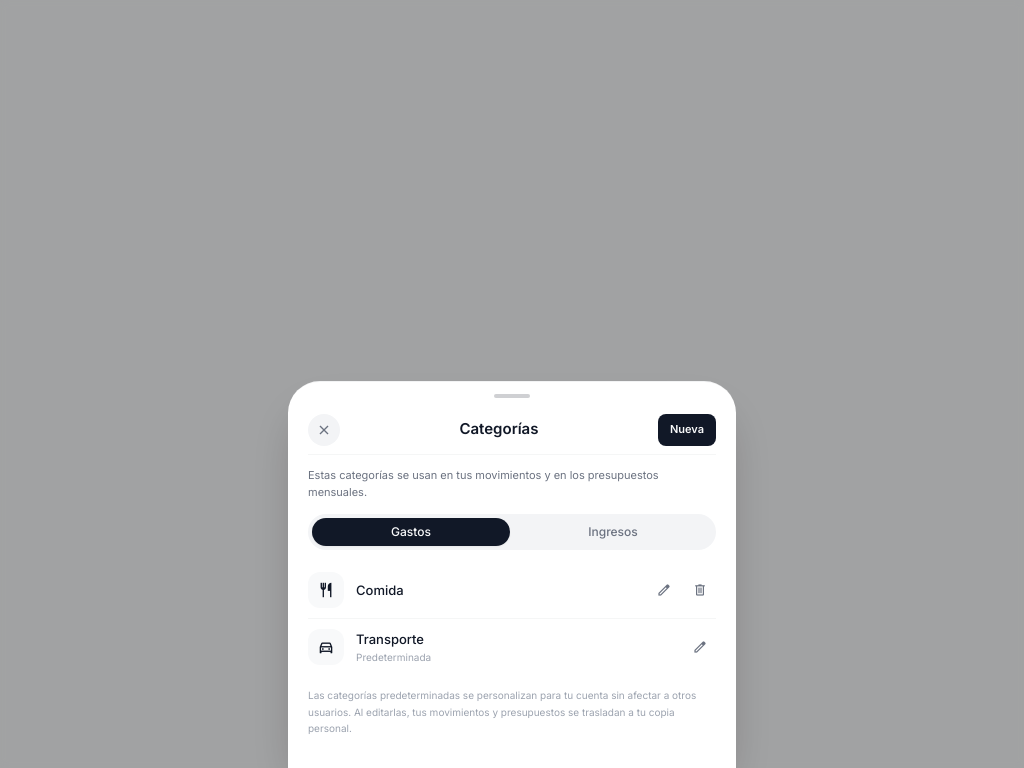
Test case: CategoriesManager › abre el modal de edición con los datos de la categoría
Expected: the text "Comida" is shown, [356, 582, 404, 598]
Step 1. Click the button named "Editar Comida" → (664, 590), box [648, 574, 680, 606]
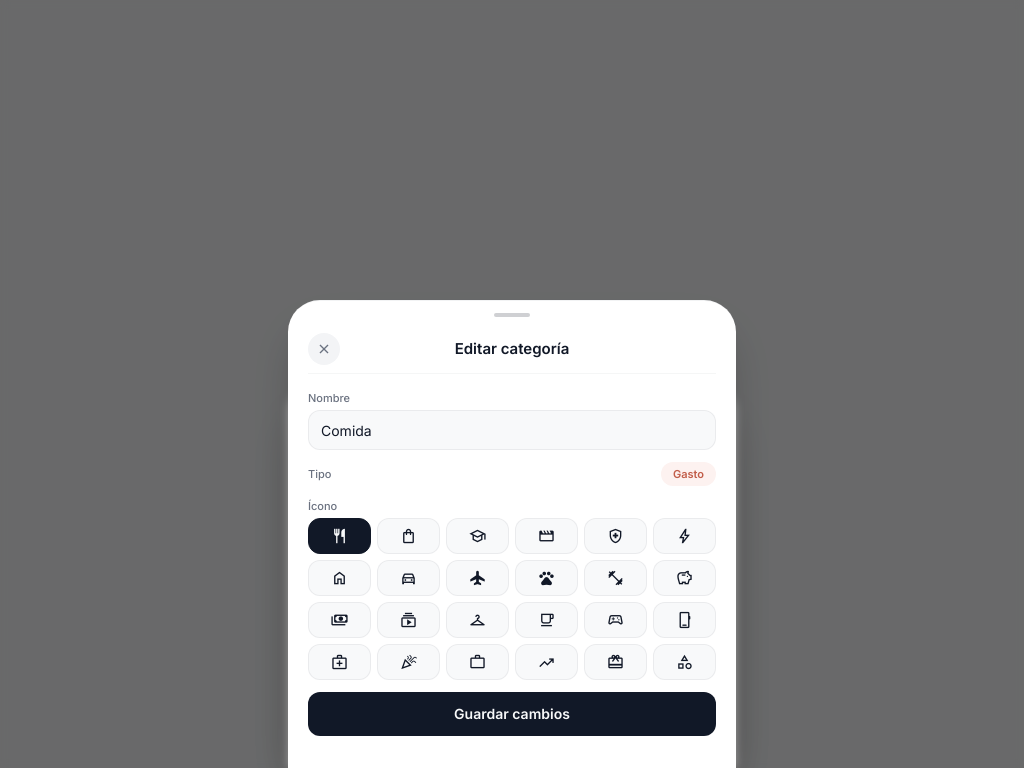
Now the heading "Editar categoría" is shown, box [455, 338, 569, 360]
Now the field labelled "Nombre" holds "Comida", box [308, 410, 716, 450]
